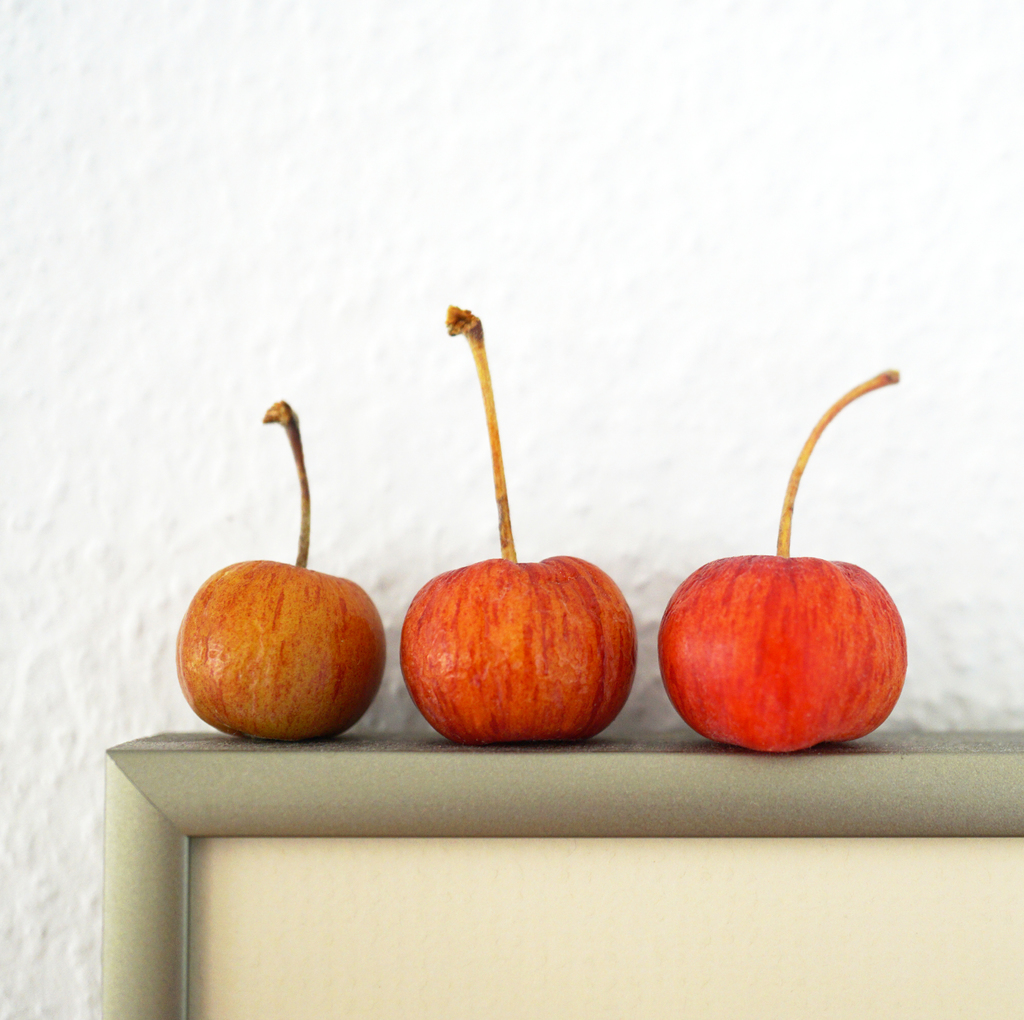Apple: (393, 303, 638, 751), (657, 363, 909, 757), (168, 392, 386, 739)
